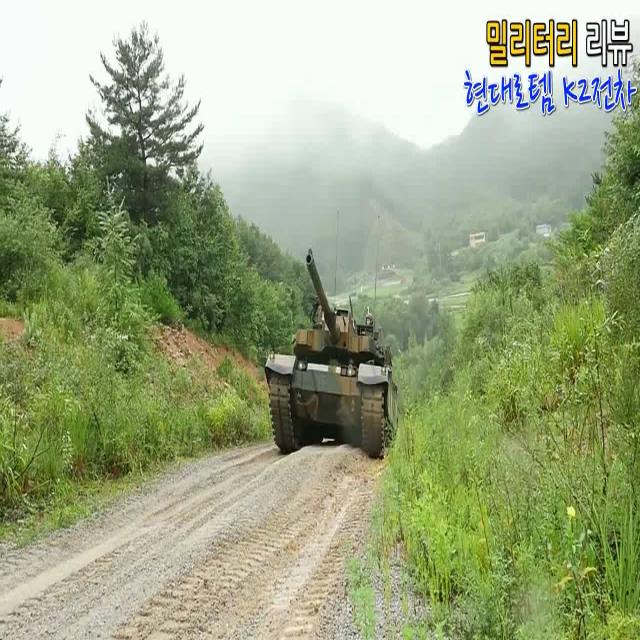korea tank: (265, 243, 397, 458)
